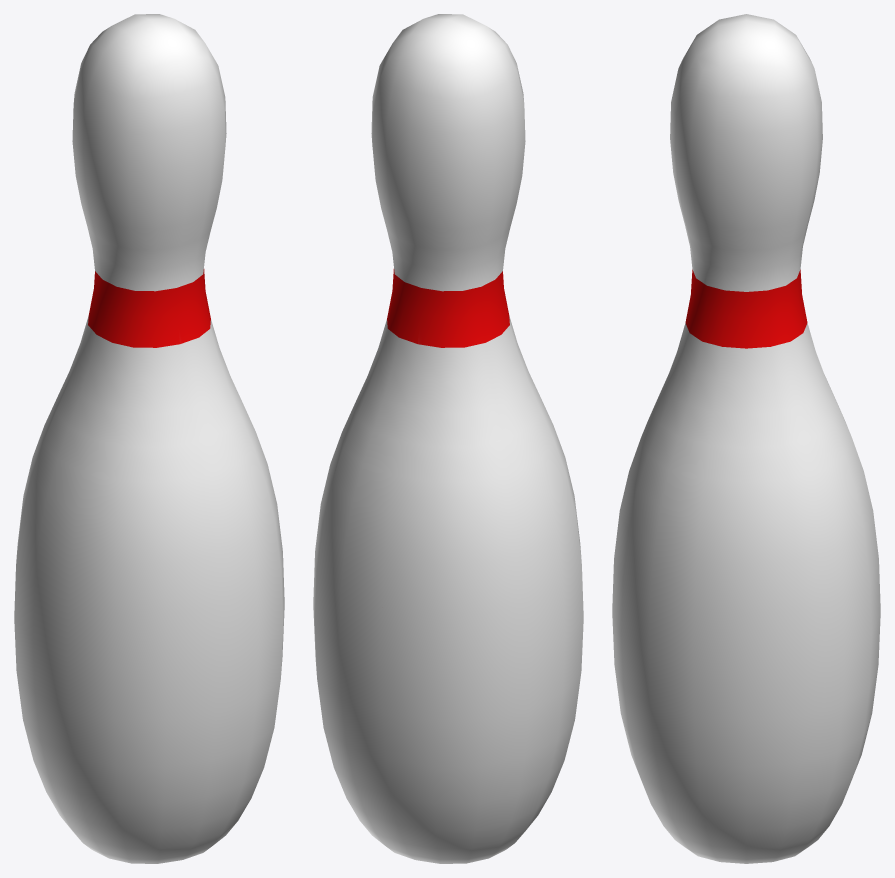
Rendered from Pin.fbx.
The picture shows the model from 3 angles, left to right: view 1: azimuth 30°, elevation 25°; view 2: azimuth 150°, elevation 25°; view 3: azimuth 270°, elevation 25°; orthographic projection.
Visible parts, largest first — view 1: Cube; view 2: Cube; view 3: Cube.
Boxes of the visible parts, <box> form: Cube: <box>14,14,284,863</box>; Cube: <box>313,14,583,863</box>; Cube: <box>612,14,880,863</box>.
Bounding box in the file's own units: 259 × 871 × 259.
1 material, 1 textured.
